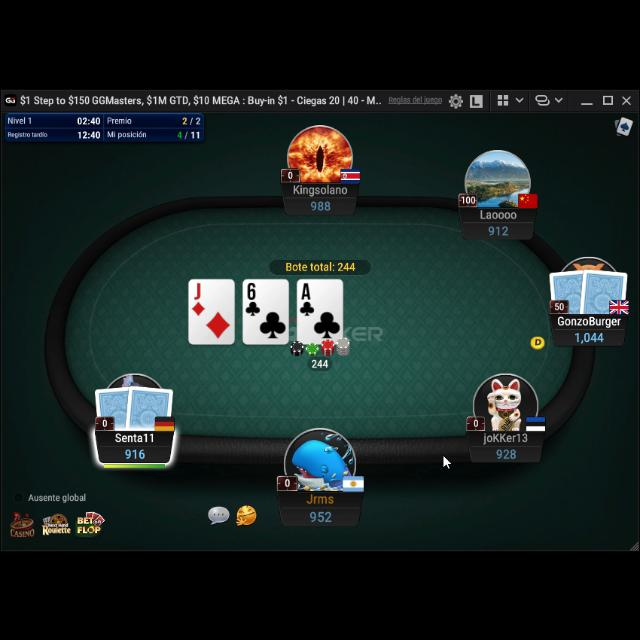6c: (244, 280, 262, 316)
Ac: (298, 279, 316, 315)
Jd: (190, 278, 206, 316)
bet_text: (310, 357, 330, 368)
card_back: (124, 380, 174, 430), (579, 263, 629, 313), (92, 382, 136, 428), (547, 264, 589, 312)
dealer: (529, 330, 547, 348)
pot_text: (284, 260, 360, 270)
stack_text: (575, 326, 605, 340), (307, 506, 333, 522), (486, 220, 509, 234), (124, 444, 146, 458), (310, 195, 332, 209), (495, 444, 517, 456)
